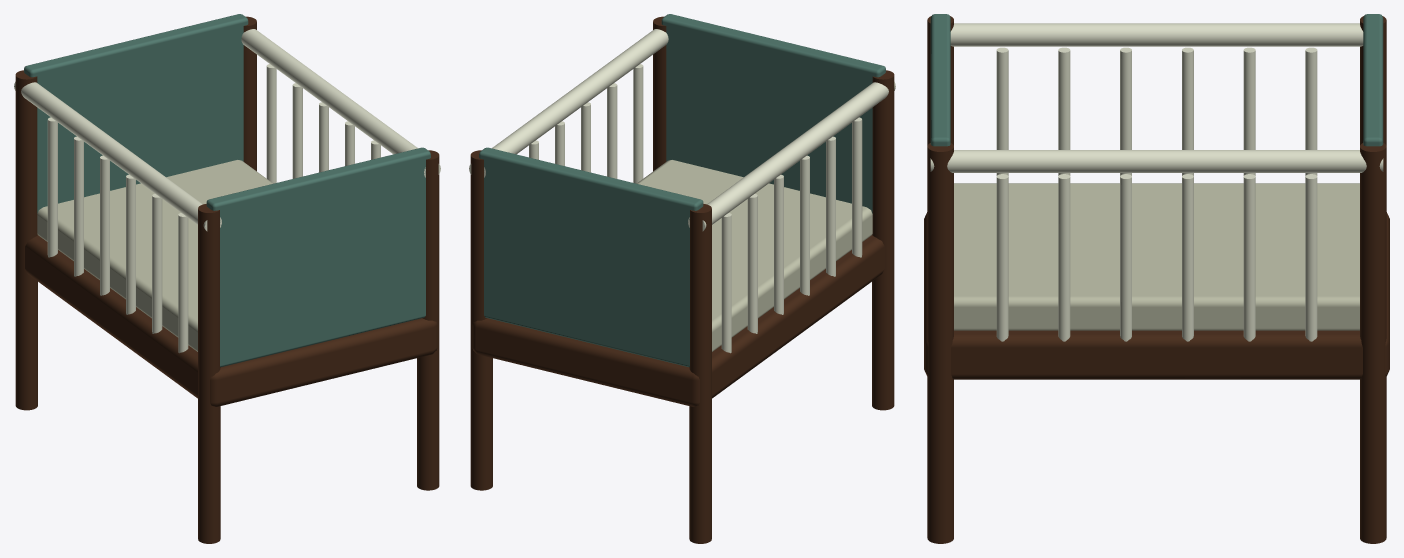
Rendered from Crib.obj.
The picture shows the model from 3 angles, left to right: view 1: azimuth 30°, elevation 25°; view 2: azimuth 150°, elevation 25°; view 3: azimuth 270°, elevation 25°; orthographic projection. The views are drawn at different scales.
Parts seen in each view (by area): view 1: Crib; view 2: Crib; view 3: Crib.
Part boxes in pixels (x1=…): Crib: x1=14, y1=14, x2=440, y2=543; Crib: x1=469, y1=14, x2=895, y2=543; Crib: x1=924, y1=14, x2=1389, y2=543.
Size of the model in its own units: 0.98 by 1.33 by 1.4.
